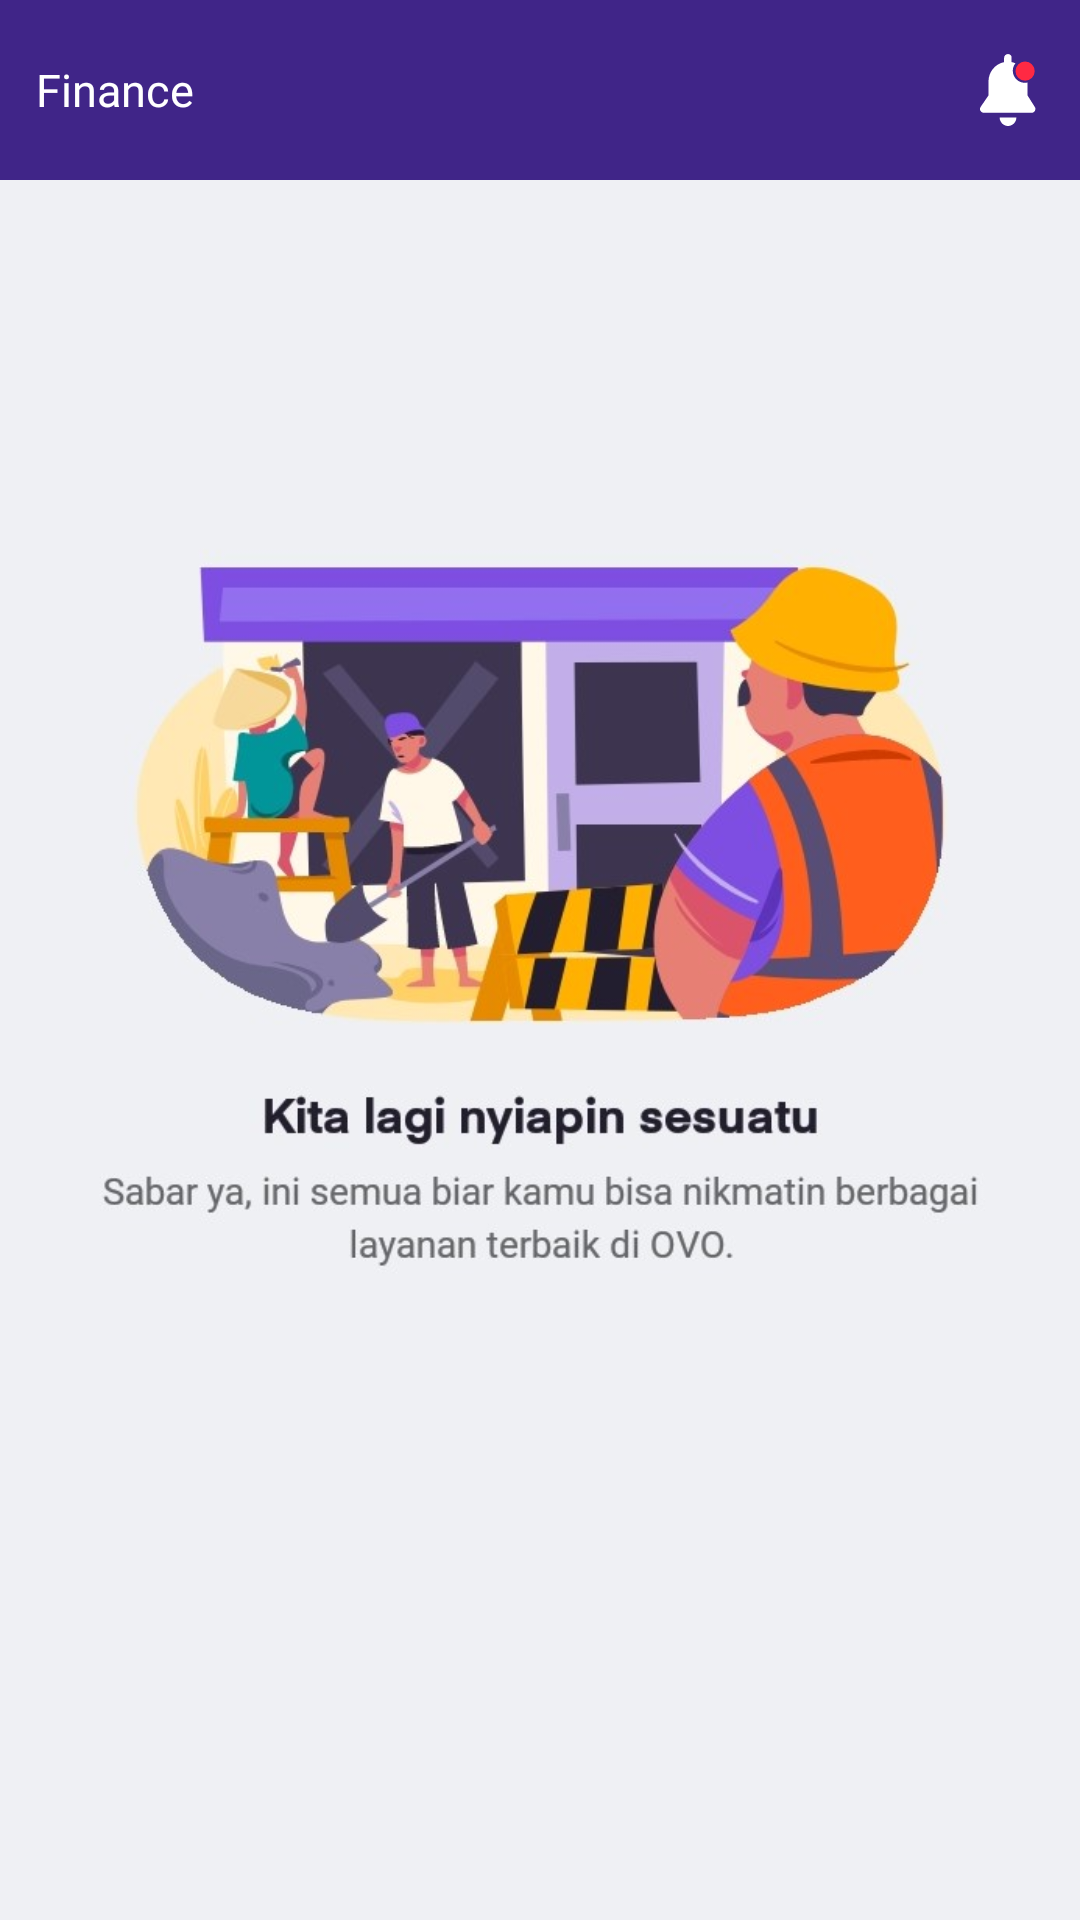

Where to tap for icons on this 1080 x 1920 app screen, as [x,y]:
bell: [1008,90]
